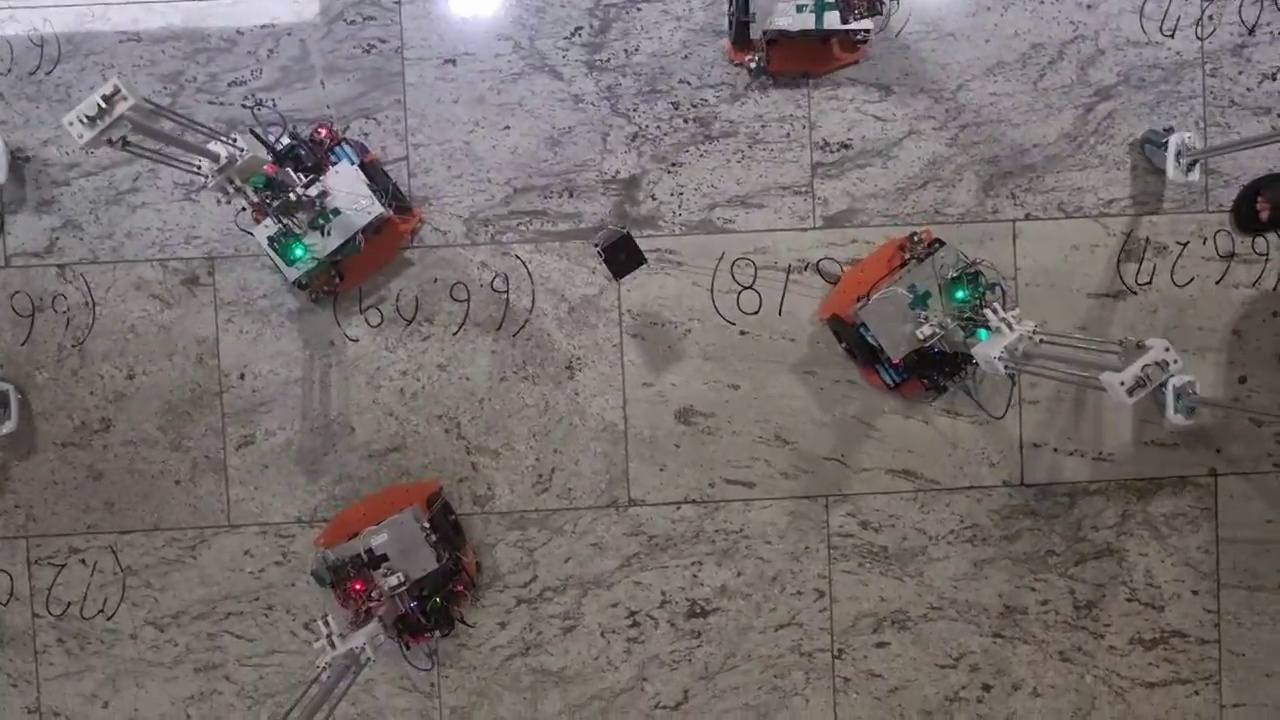e0: (591, 224, 648, 280)
r1: (827, 238, 976, 368)
r2: (727, 12, 871, 13)
r3: (262, 158, 413, 290)
r4: (323, 493, 466, 608)
y_+_axis_vector: (629, 486, 1022, 506)
y_-_axis_vector: (230, 506, 630, 527)
